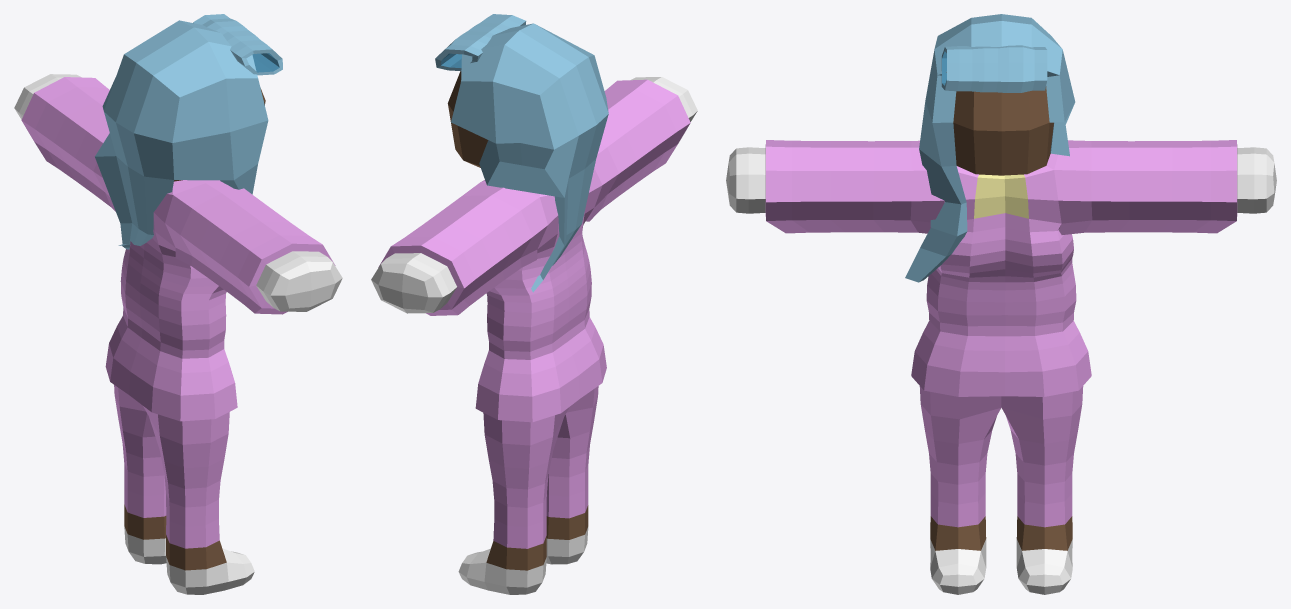
Rendered from countessBaseModel.fbx.
The picture shows the model from 3 angles, left to right: view 1: azimuth 30°, elevation 25°; view 2: azimuth 150°, elevation 25°; view 3: azimuth 270°, elevation 25°; orthographic projection. The views are drawn at different scales.
Visible parts, largest first — view 1: Character; view 2: Character; view 3: Character.
Part boxes in pixels (<box>): Character: <box>14,14,342,594</box>; Character: <box>371,14,697,594</box>; Character: <box>726,14,1276,594</box>.
Size of the model in its own units: 41.22 by 150 by 133.
